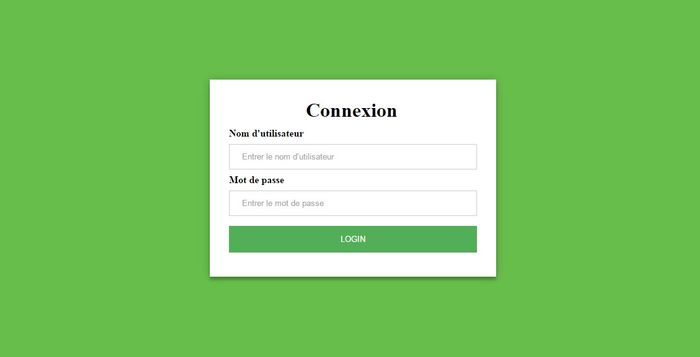_form_: (148, 1, 565, 357)
field: (229, 142, 480, 171), (225, 189, 478, 217), (227, 225, 479, 253)
field_with_label: (223, 174, 480, 219), (226, 127, 481, 172)
